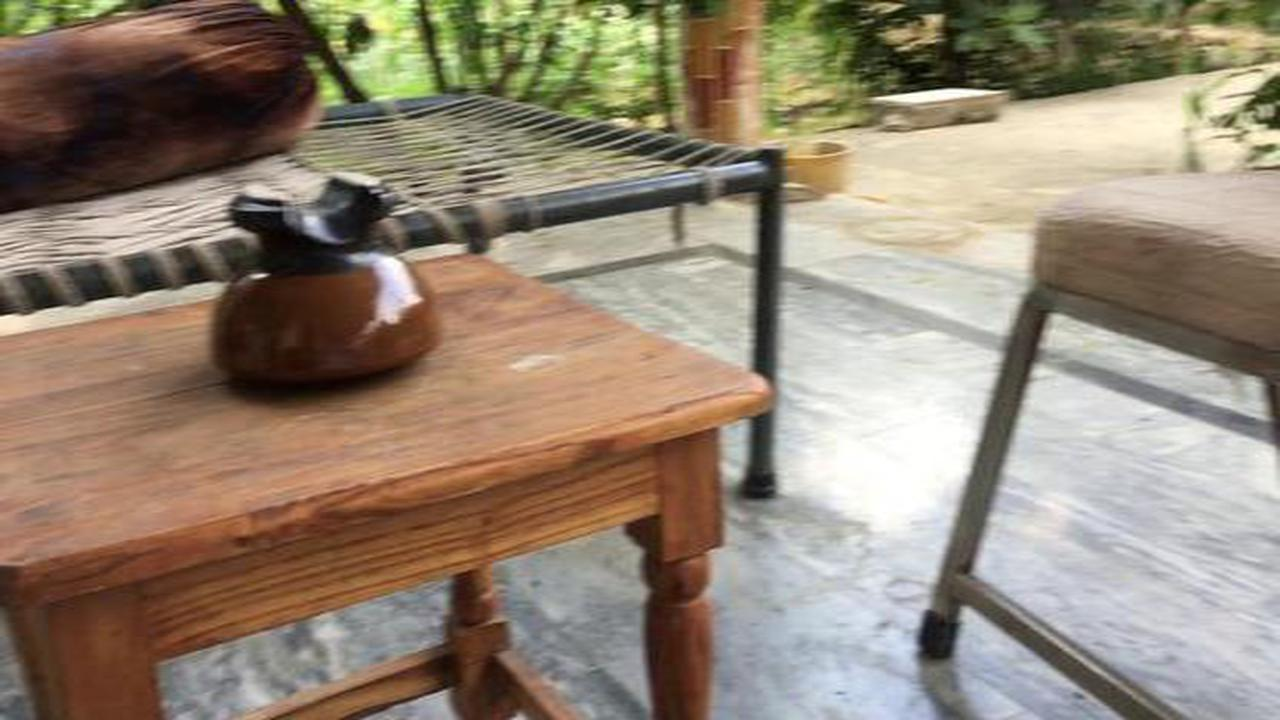insulator_pin: (185, 163, 459, 402)
